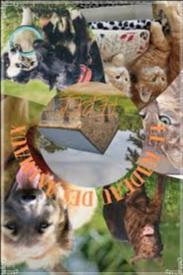Non_Gorille: (1, 10, 176, 264)
